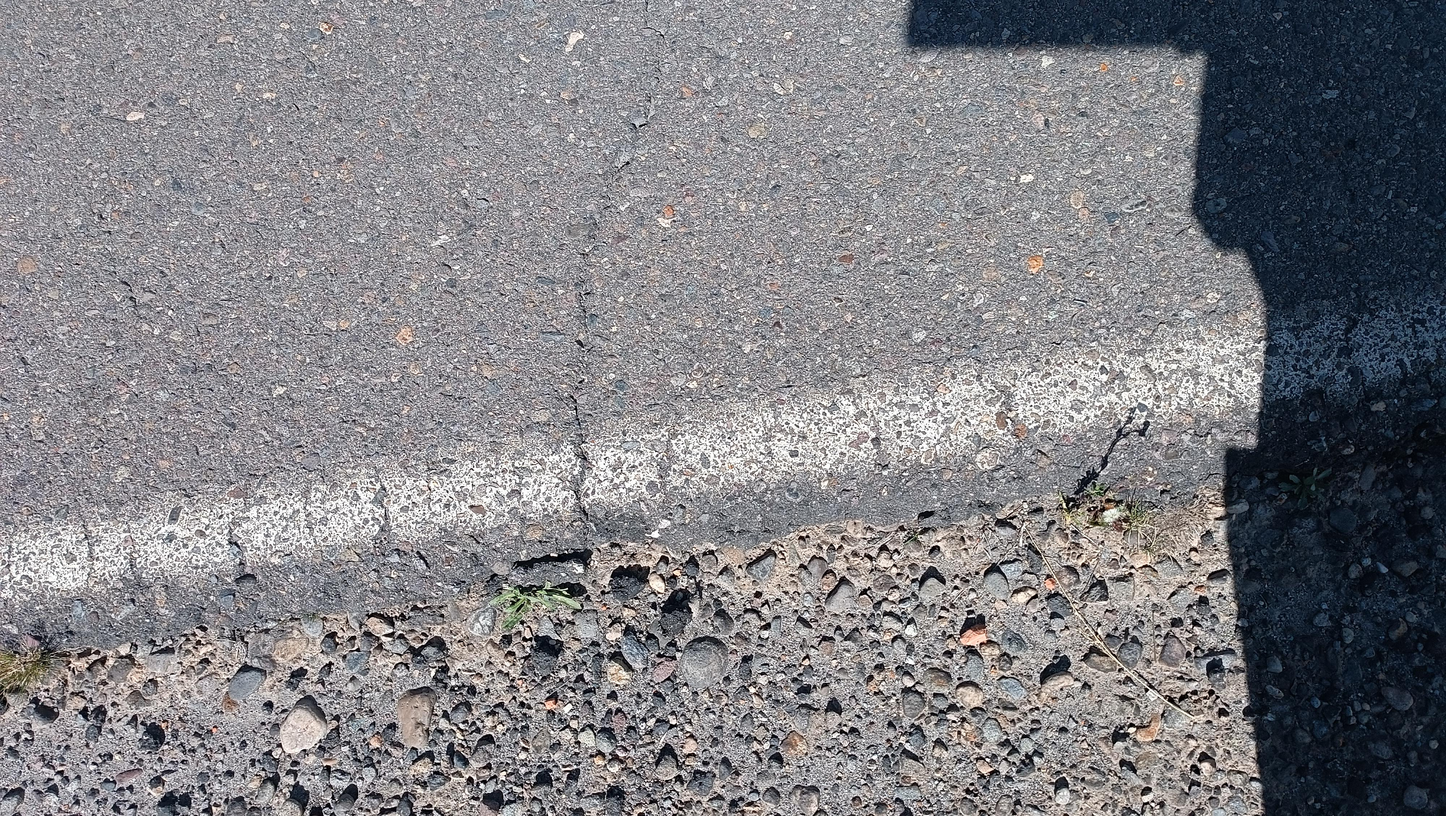GRIETA: (574, 55, 665, 367), (569, 375, 593, 521), (642, 0, 668, 44)
